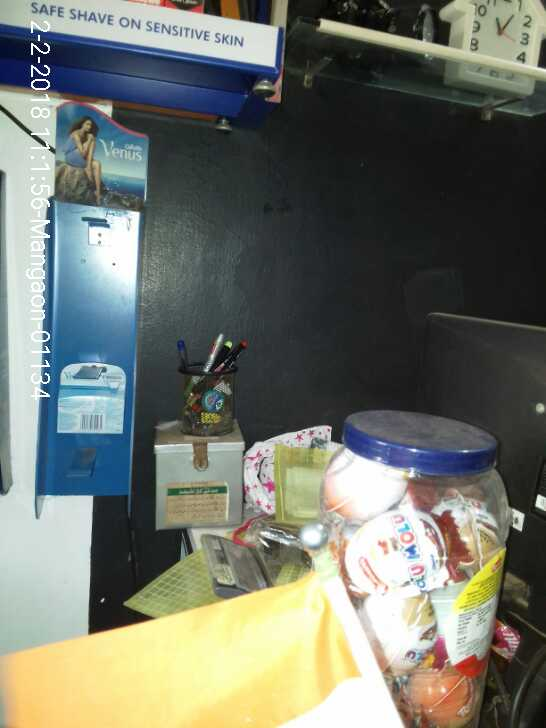reject: (111, 247, 205, 416)
